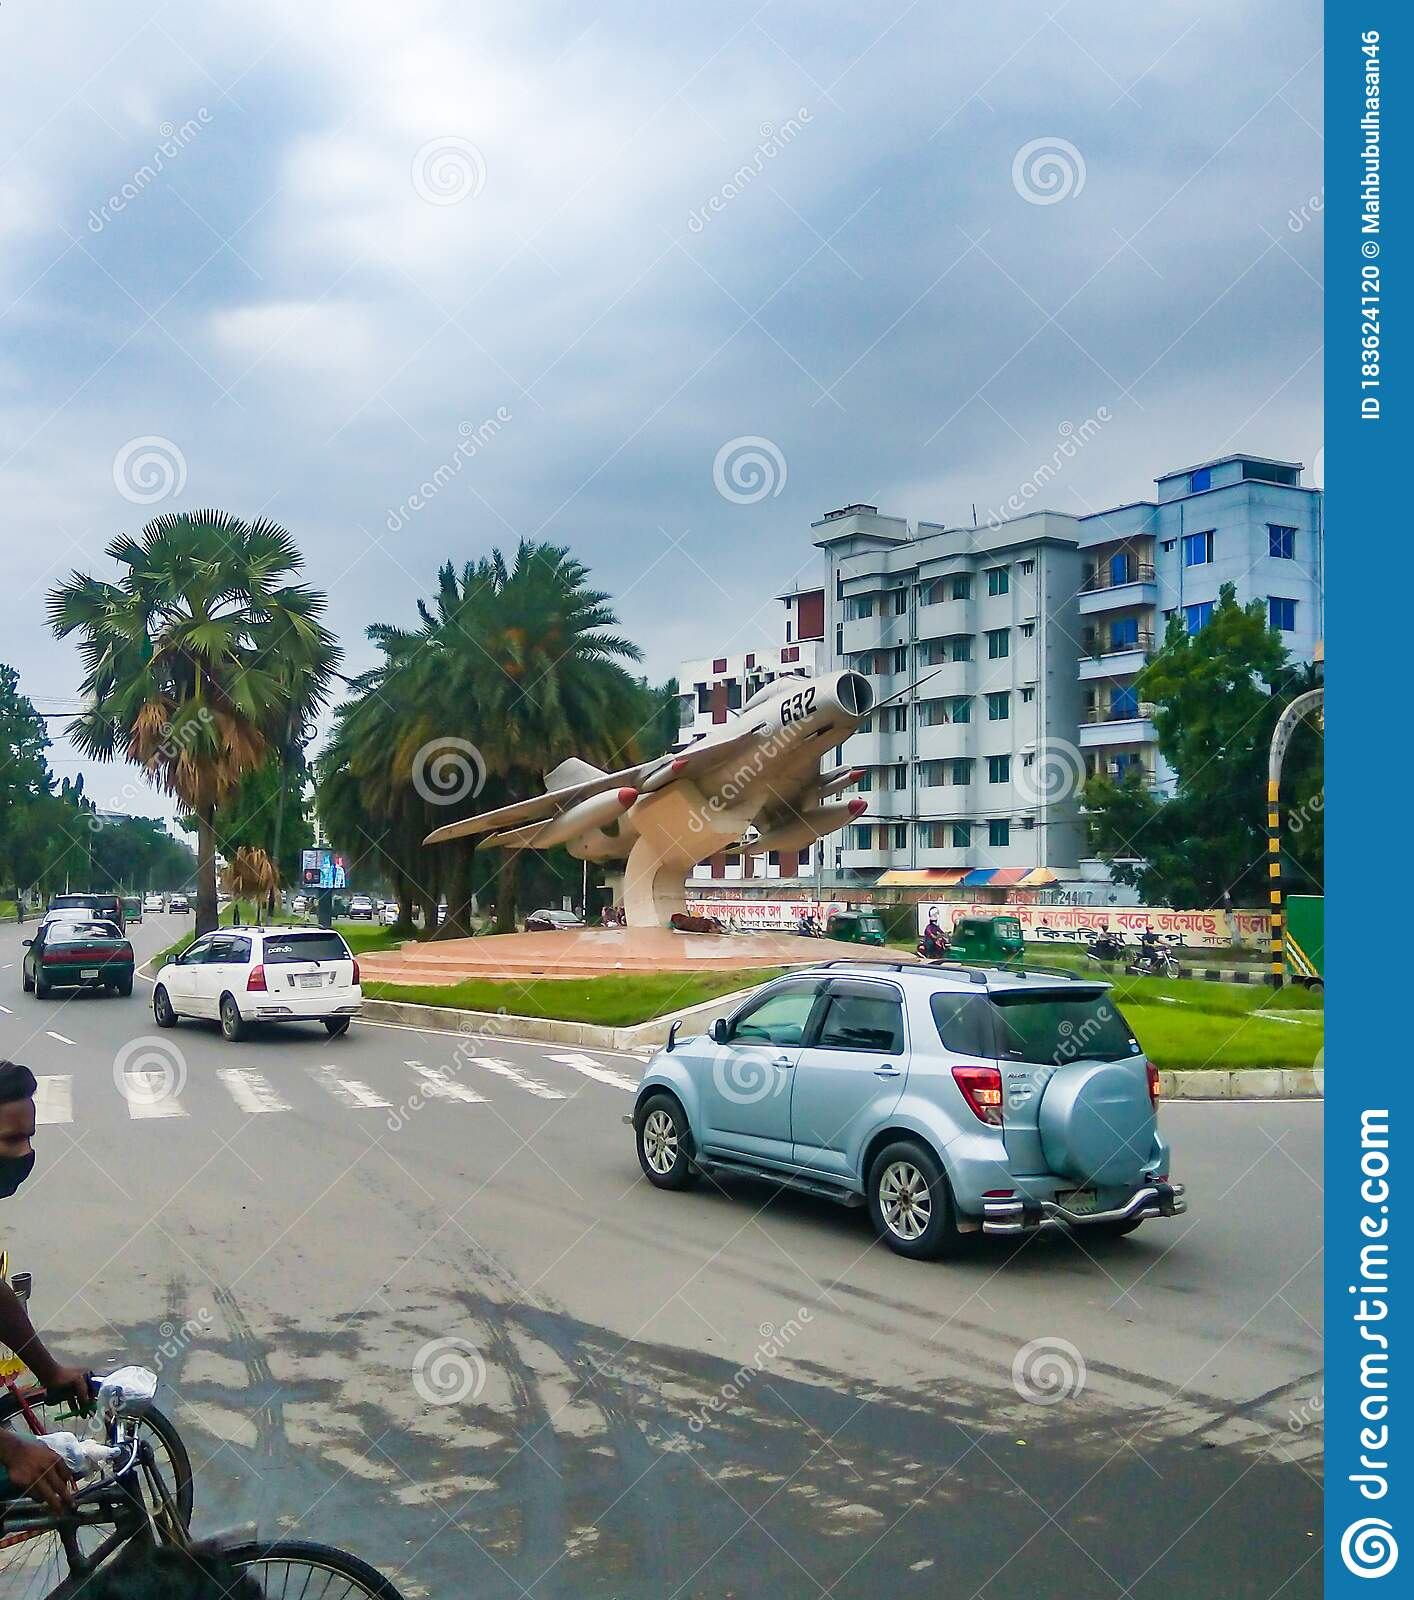car: (625, 939, 1189, 1260), (142, 920, 370, 1042), (11, 901, 141, 1009)
